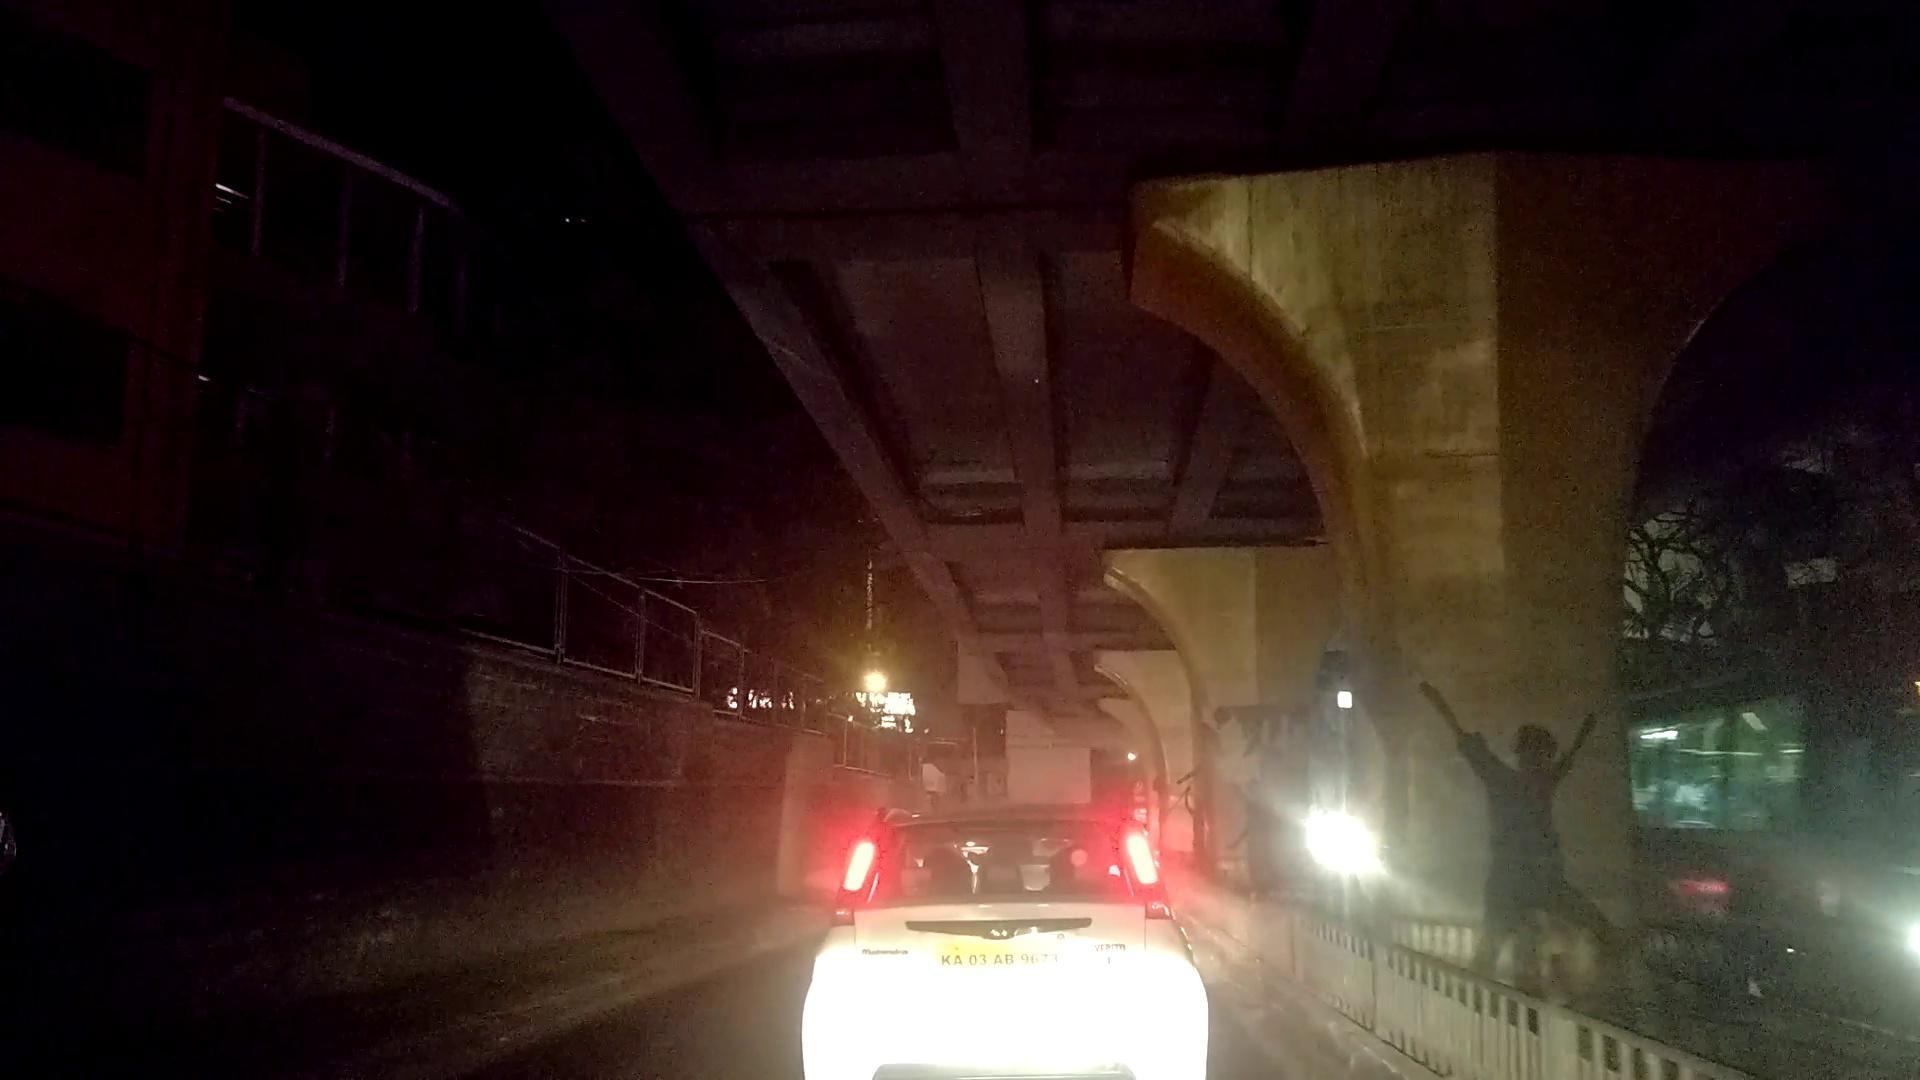on: (1320, 622, 1470, 947)
